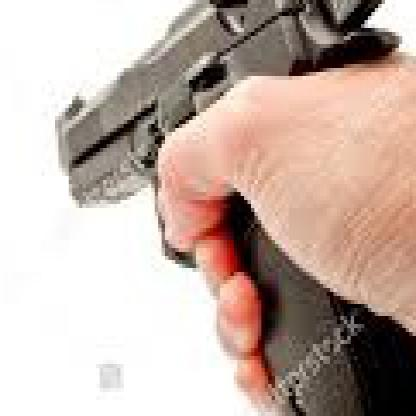gun: (59, 0, 413, 412)
